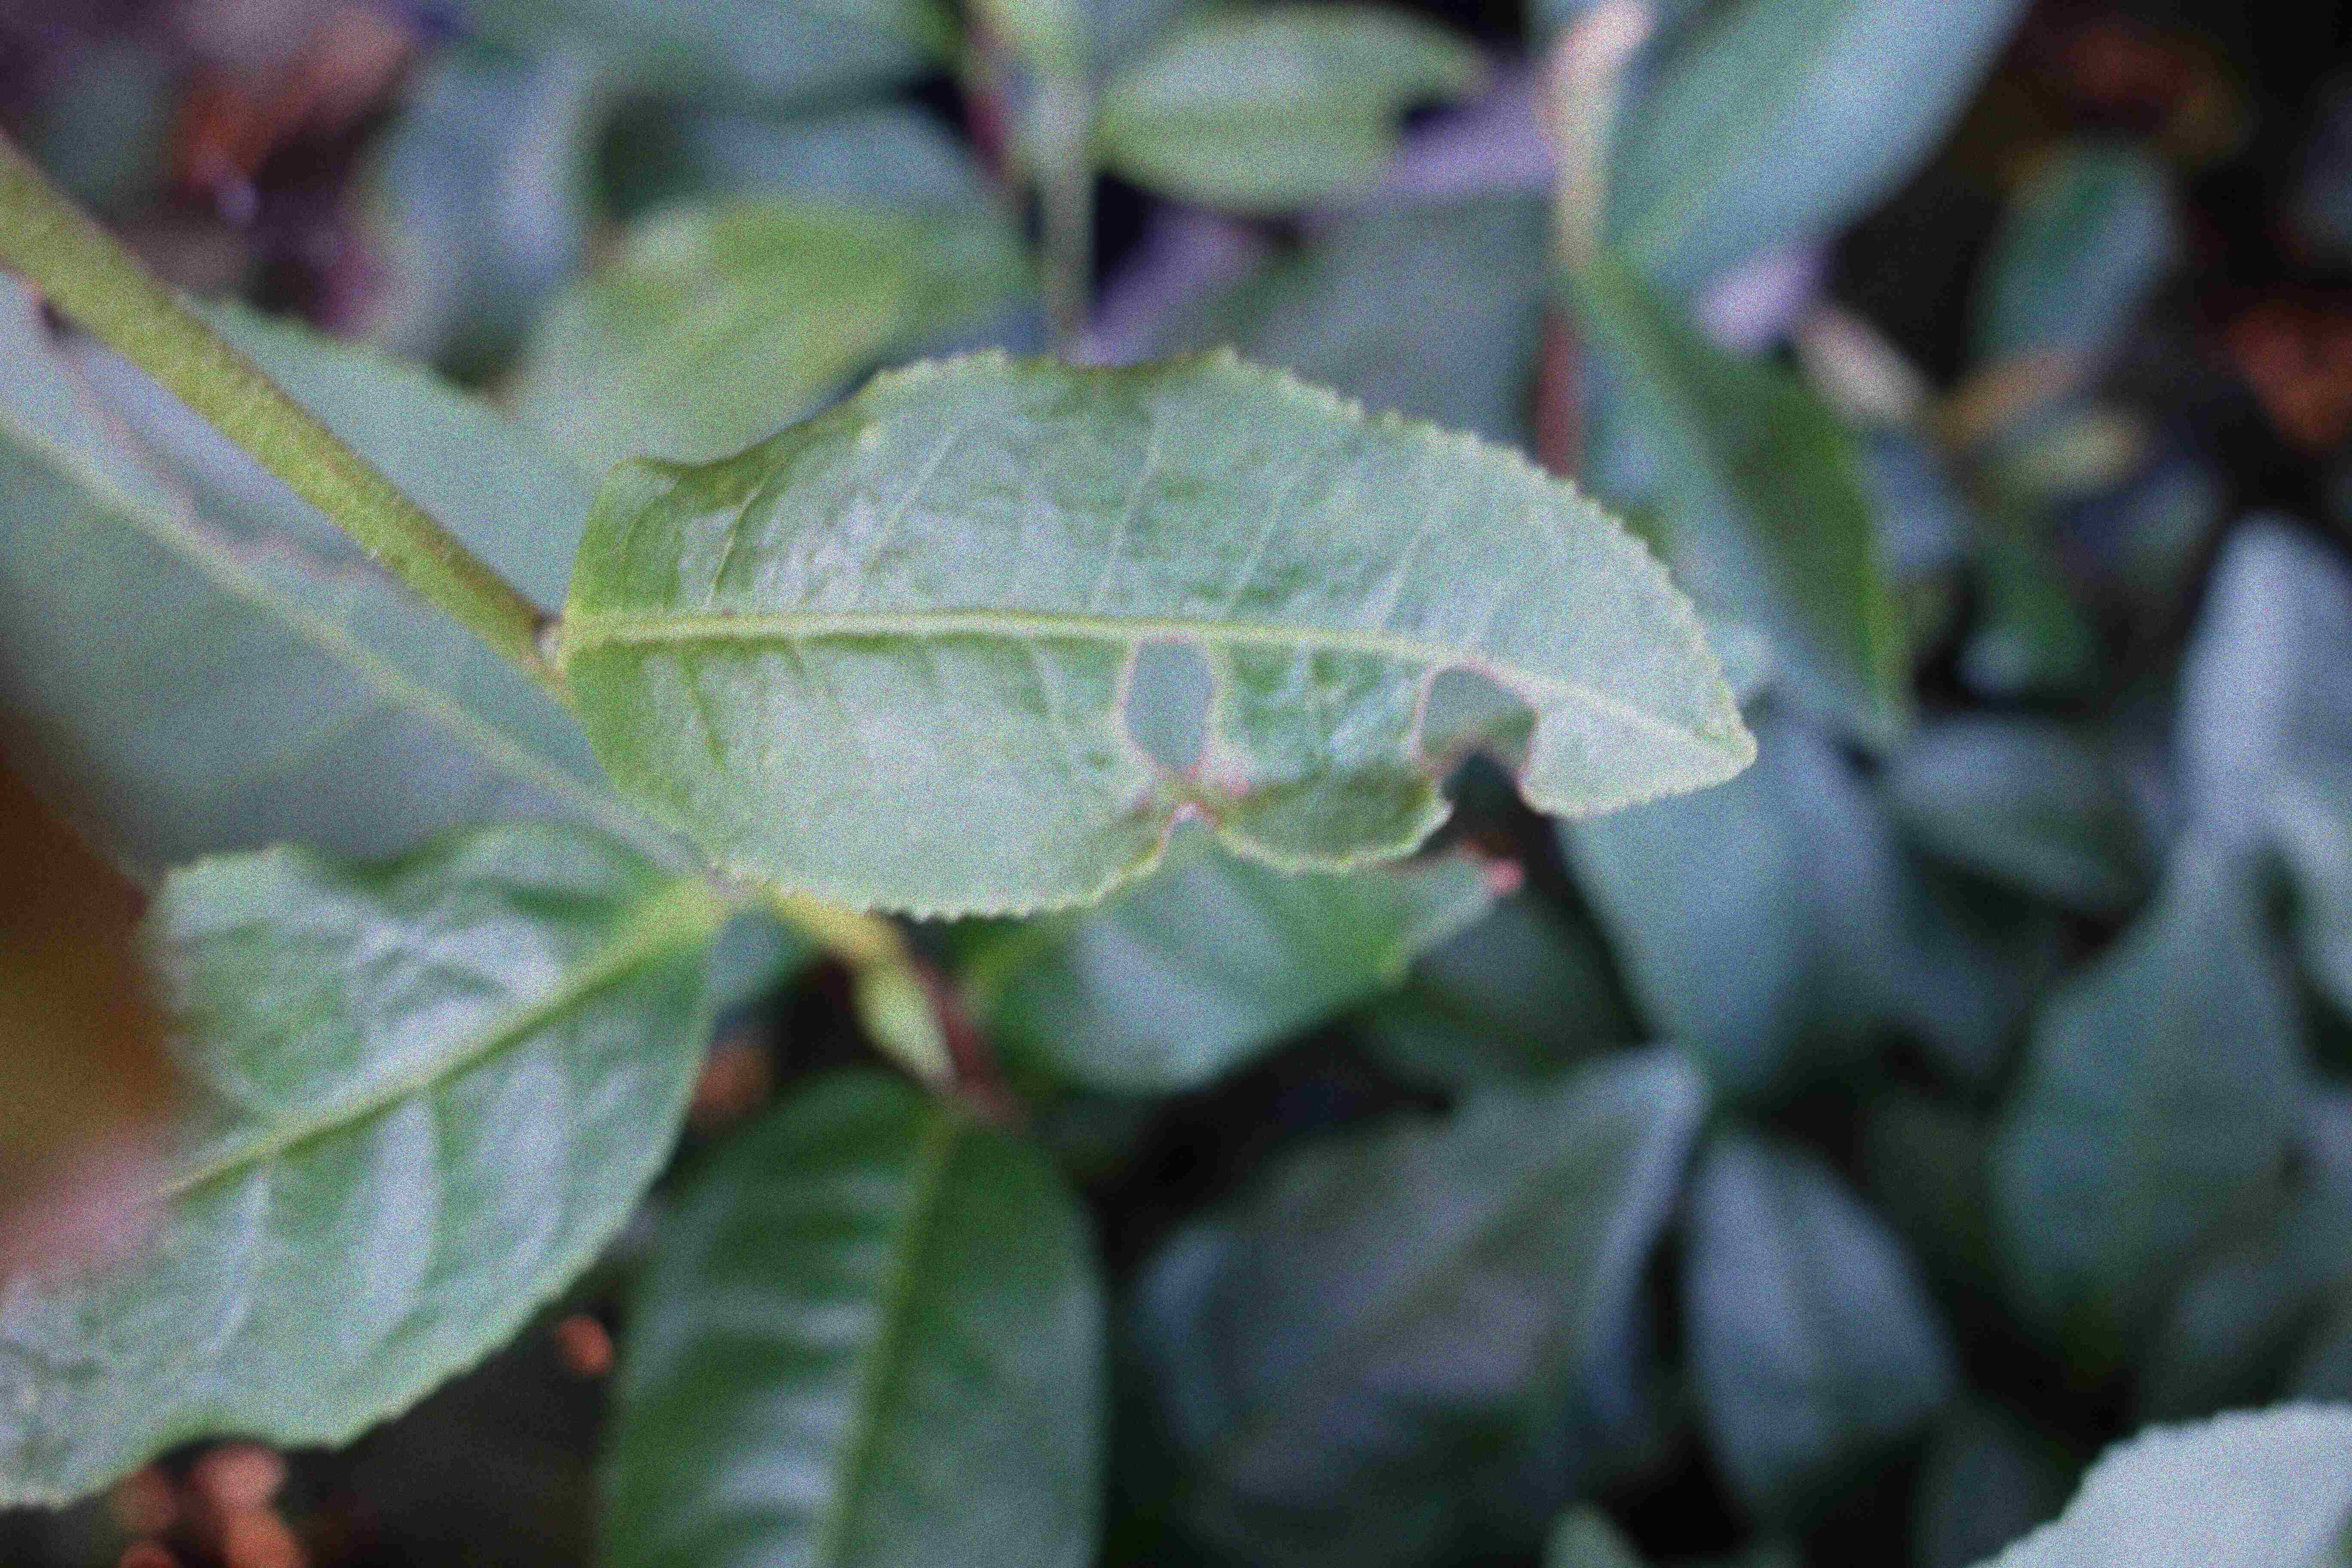chihuo_high: (563, 336, 1767, 915)
